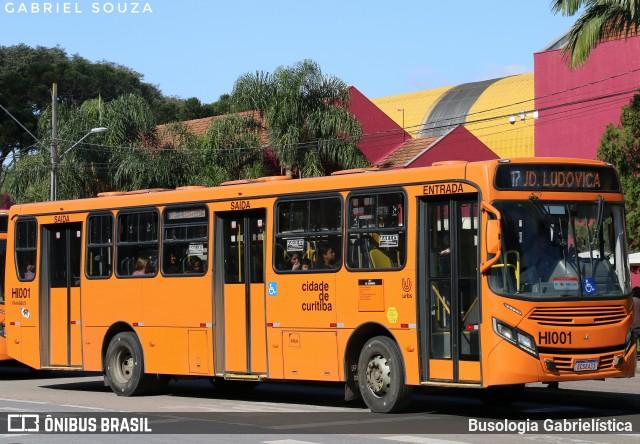JD LUDOVICA: (520, 166, 604, 192)
